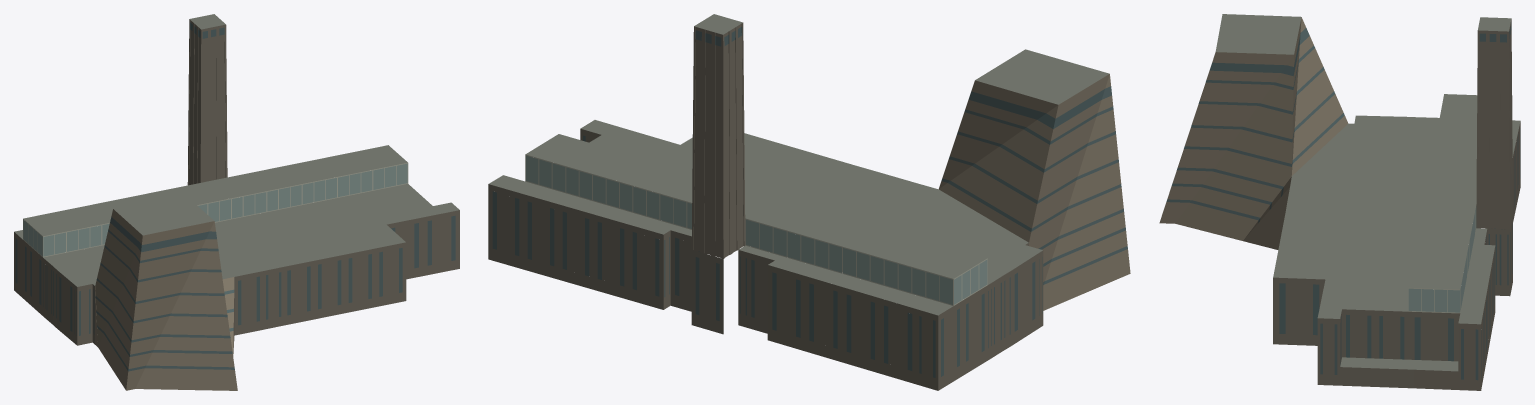
File: tate-modern-far.glb
3 views of the same model, side by side, from view 1: azimuth 30°, elevation 25°; view 2: azimuth 150°, elevation 25°; view 3: azimuth 270°, elevation 25° (orthographic). The views are drawn at different scales.
Visible parts, largest first — view 1: tate-modern-0-roof, tate-modern-0-brick, tate-modern-0-extension, tate-modern-0-glass, tate-modern-0-lightbox, tate-modern-0-frame; view 2: tate-modern-0-brick, tate-modern-0-roof, tate-modern-0-extension, tate-modern-0-glass, tate-modern-0-lightbox, tate-modern-0-frame; view 3: tate-modern-0-roof, tate-modern-0-brick, tate-modern-0-extension, tate-modern-0-glass, tate-modern-0-lightbox, tate-modern-0-frame.
Boxes of the visible parts, box(x1,y1,x2,y2) form: tate-modern-0-roof: box(14, 14, 459, 286); tate-modern-0-brick: box(14, 19, 459, 345); tate-modern-0-extension: box(95, 209, 237, 390); tate-modern-0-glass: box(15, 22, 455, 371); tate-modern-0-lightbox: box(23, 163, 407, 256); tate-modern-0-frame: box(23, 162, 408, 257); tate-modern-0-brick: box(488, 23, 1043, 390); tate-modern-0-roof: box(489, 14, 1109, 315); tate-modern-0-extension: box(939, 74, 1130, 310); tate-modern-0-glass: box(492, 27, 1127, 377); tate-modern-0-lightbox: box(526, 155, 987, 304); tate-modern-0-frame: box(525, 154, 987, 305); tate-modern-0-roof: box(1215, 14, 1520, 371); tate-modern-0-brick: box(1273, 19, 1520, 390); tate-modern-0-extension: box(1159, 17, 1348, 249); tate-modern-0-glass: box(1166, 22, 1520, 380); tate-modern-0-lightbox: box(1408, 206, 1476, 312); tate-modern-0-frame: box(1408, 203, 1476, 313).
Bounding box in the file's own units: 172 × 99 × 123.
